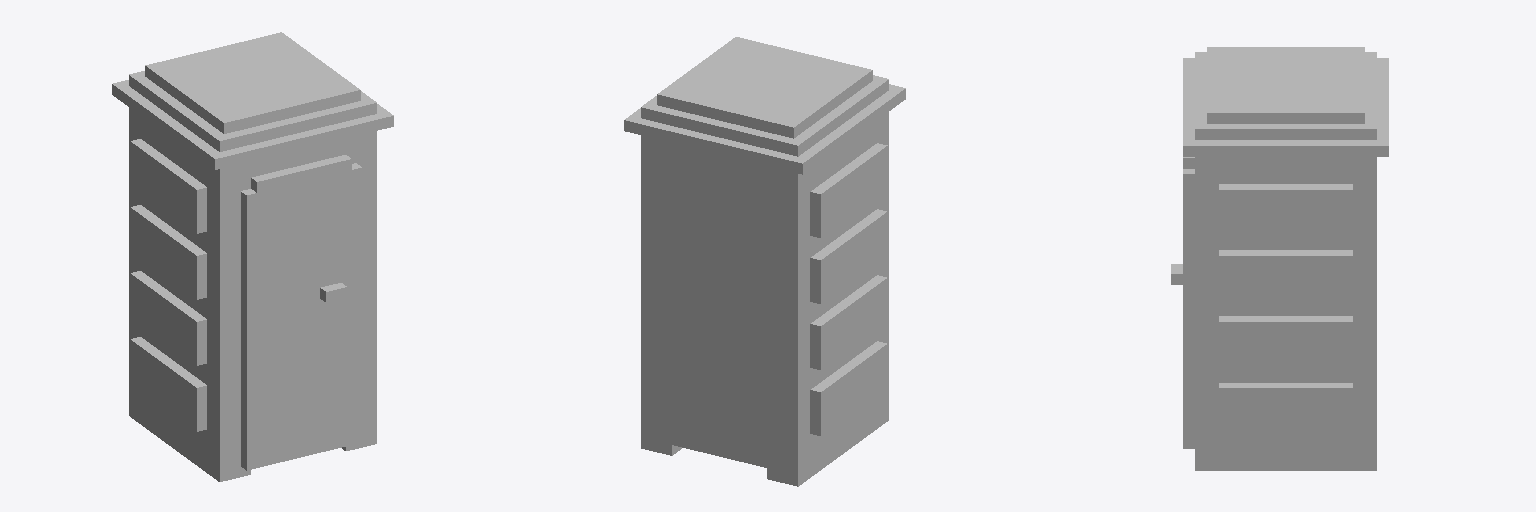
File: banheiro_quimico.obj
The picture shows the model from 3 angles: view 1: azimuth 30°, elevation 25°; view 2: azimuth 150°, elevation 25°; view 3: azimuth 270°, elevation 25°; orthographic projection.
Visible parts, largest first — view 1: banheiro_quimico; view 2: banheiro_quimico; view 3: banheiro_quimico.
Part boxes in pixels (bbox=[...]): banheiro_quimico: bbox=[112, 32, 393, 481]; banheiro_quimico: bbox=[624, 37, 905, 486]; banheiro_quimico: bbox=[1171, 47, 1388, 470].
Size of the model in its own units: 17 by 32 by 18.